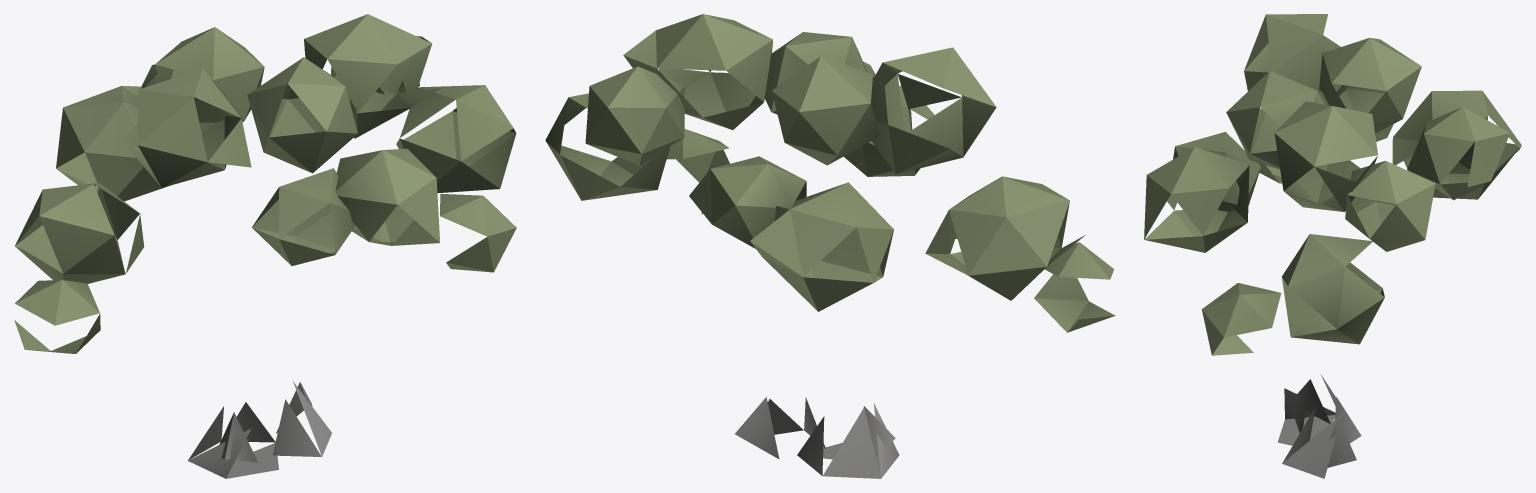
File: olive.lod.glb
The picture shows the model from 3 angles, left to right: view 1: azimuth 30°, elevation 25°; view 2: azimuth 150°, elevation 25°; view 3: azimuth 270°, elevation 25°; orthographic projection. The views are drawn at different scales.
Visible parts, largest first — view 1: olive; view 2: olive; view 3: olive.
Boxes of the visible parts, bbox=[...] form: olive: bbox=[14, 14, 516, 478]; olive: bbox=[545, 14, 1115, 478]; olive: bbox=[1144, 14, 1521, 478].
Bounding box in the file's own units: 5.67 × 4.25 × 3.66.
